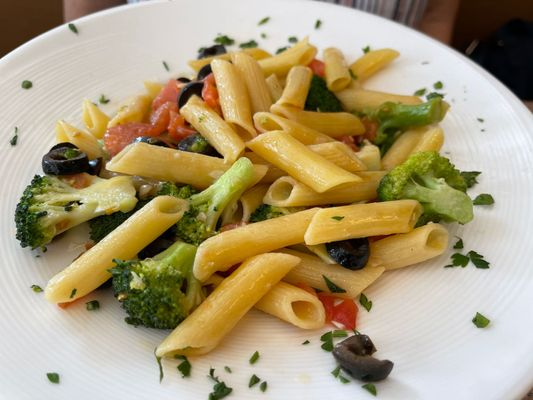curry: (14, 172, 139, 252), (108, 240, 207, 330), (377, 150, 479, 226)
sushi: (1, 1, 529, 398)
